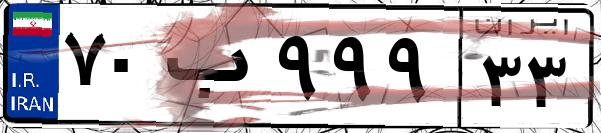0: (110, 28, 158, 98)
3: (475, 38, 525, 113), (525, 38, 570, 115)
7: (57, 26, 110, 100)
9: (270, 28, 330, 110), (385, 28, 445, 110), (330, 28, 385, 110)
ب: (158, 20, 270, 120)
